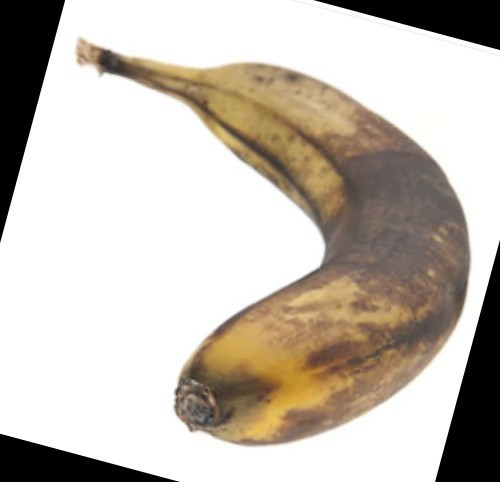rotten_banana: (79, 39, 472, 439)
